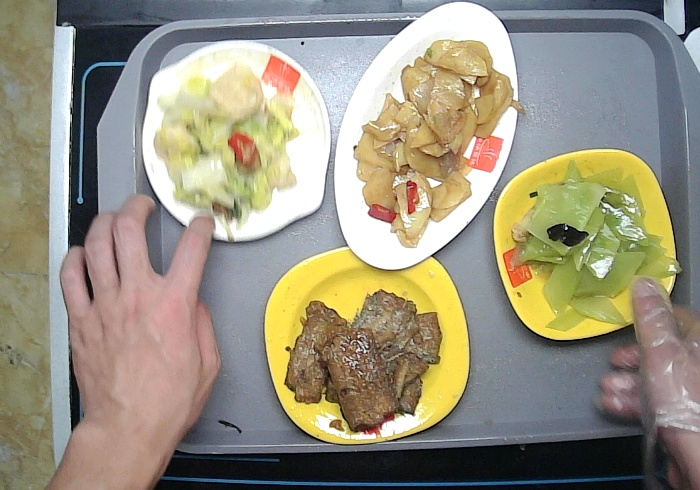SHKJ-Bao_Yu_Pan: (140, 37, 334, 244)
SHKJ-Huang_Se_Cai_Die: (489, 145, 678, 343)
SHKJ-Huang_Se_Si_Fang_Cai_Die: (263, 243, 473, 446)
SHKJ-Yu_Pan: (331, 2, 523, 273)
